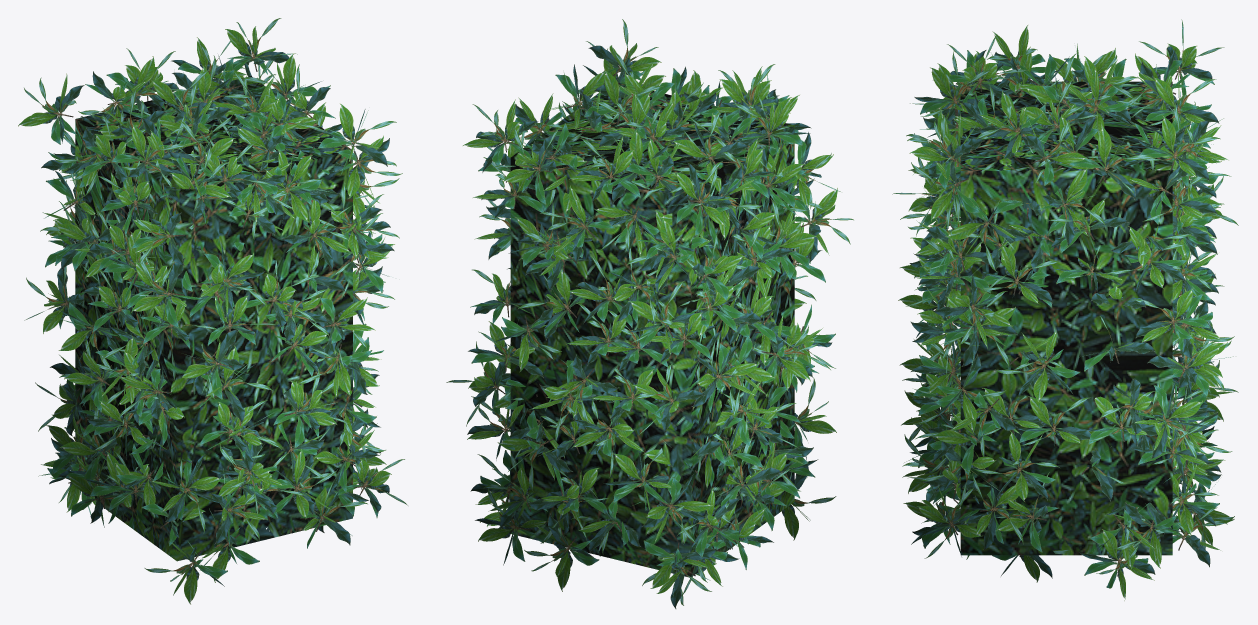
Rendered from hedge-long.glb.
The picture shows the model from 3 angles, left to right: view 1: azimuth 30°, elevation 25°; view 2: azimuth 150°, elevation 25°; view 3: azimuth 270°, elevation 25°; orthographic projection. The views are drawn at different scales.
Bounding box in the file's own units: 26.47 × 41.18 × 26.9.
Materials: 1 (1 with a texture image).
